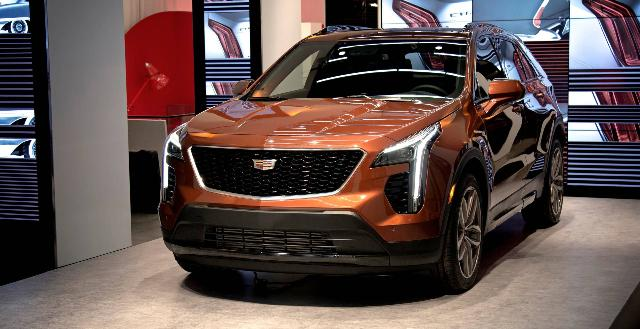cadillac: (157, 22, 566, 296)
